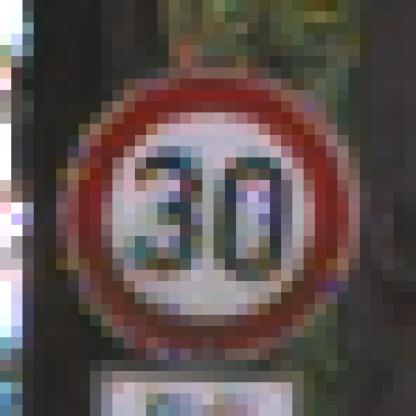Speed Limit 30: (59, 75, 356, 361)
